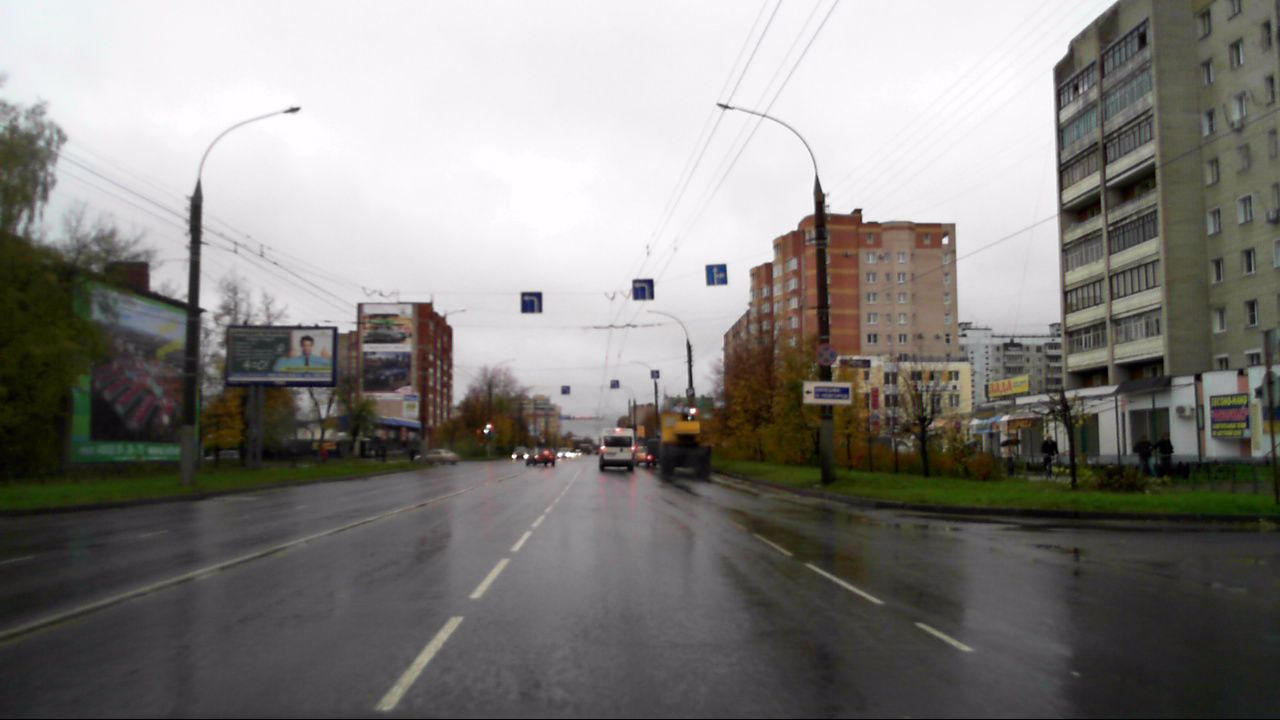No Parking: (814, 344, 837, 365)
